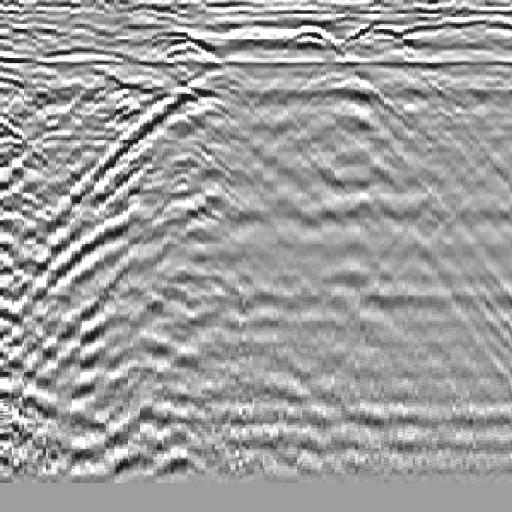metalic: (46, 48, 314, 367)
